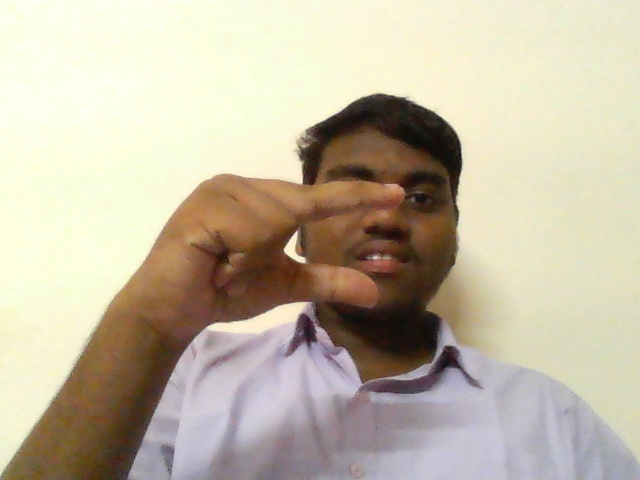No: (91, 166, 423, 328)
